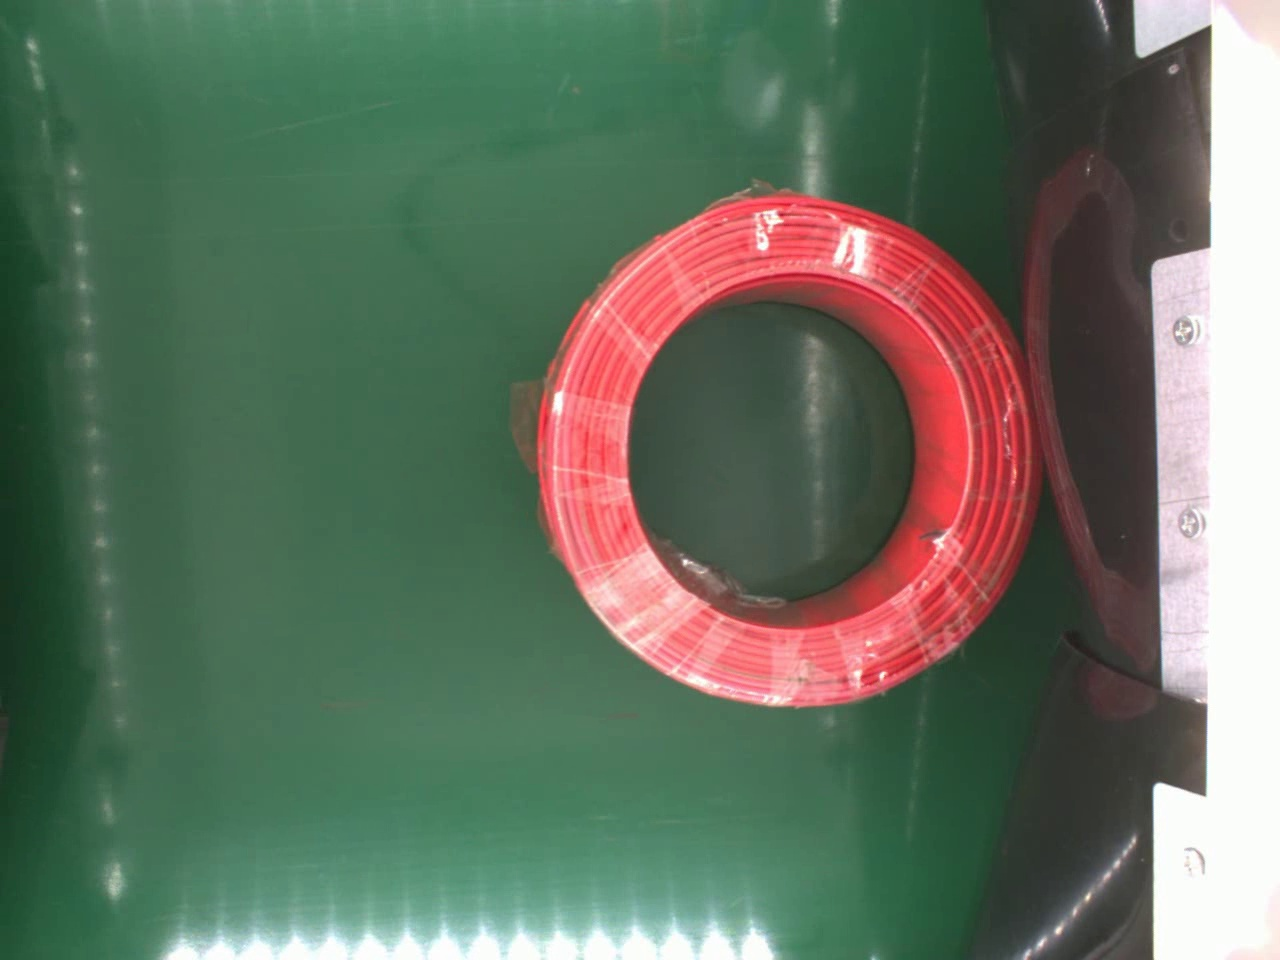red: (532, 183, 1038, 712)
